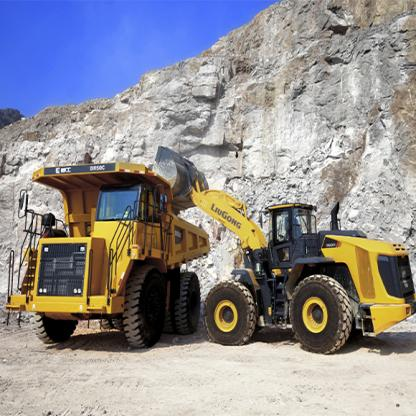bull_dozer/loader/grader: (146, 134, 416, 361)
dump_truck: (3, 159, 206, 357)
